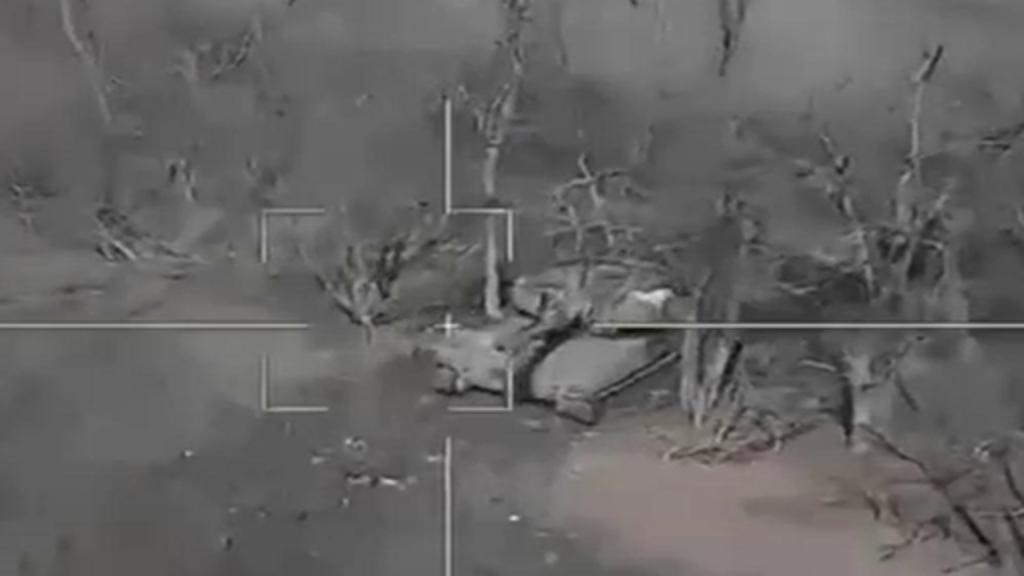ART: (420, 256, 706, 418)
